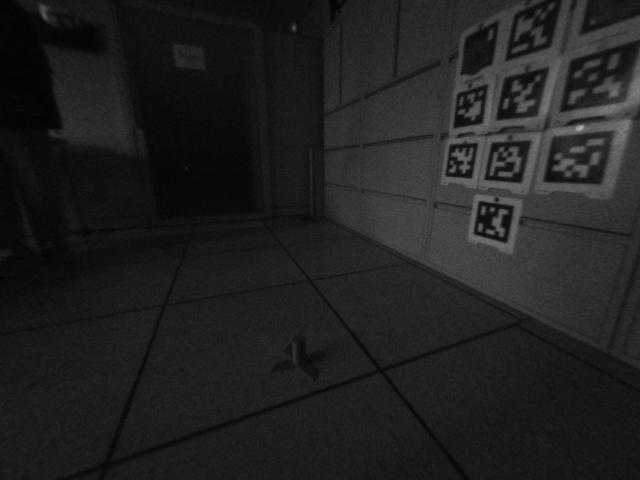x: (271, 331, 326, 381)
